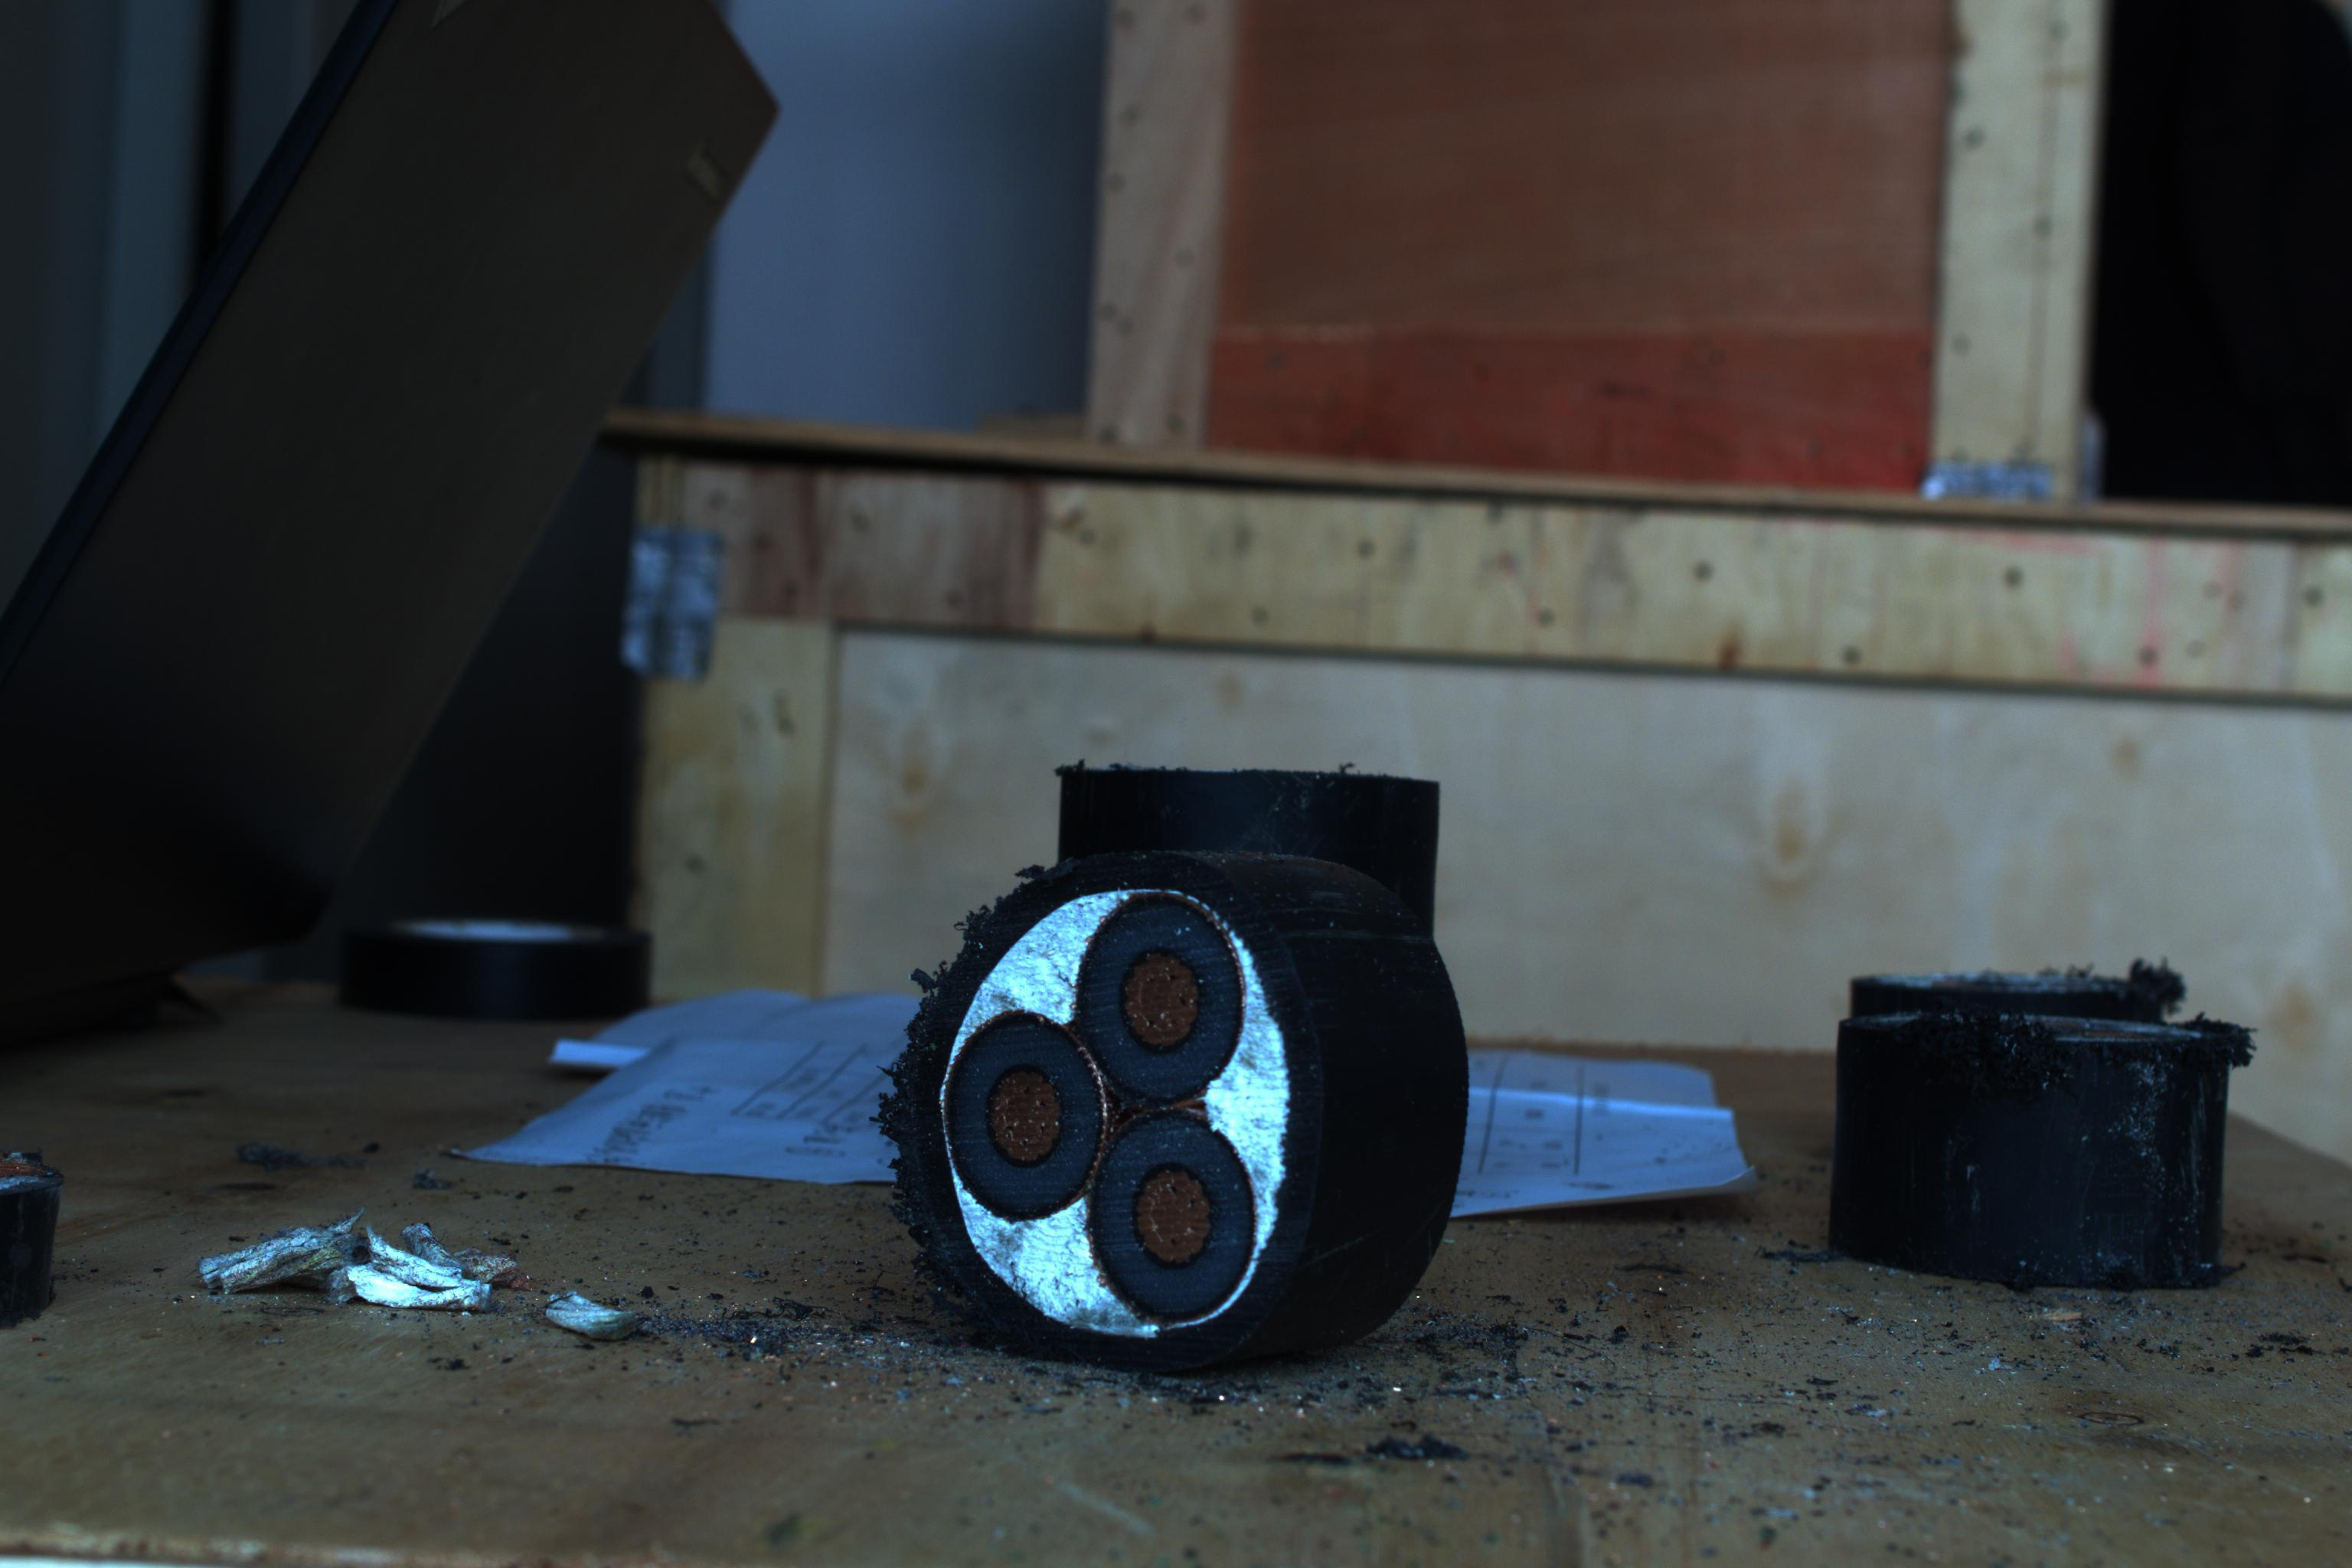YJV_8.7_10kV_3x70: (889, 864, 1323, 1360)
